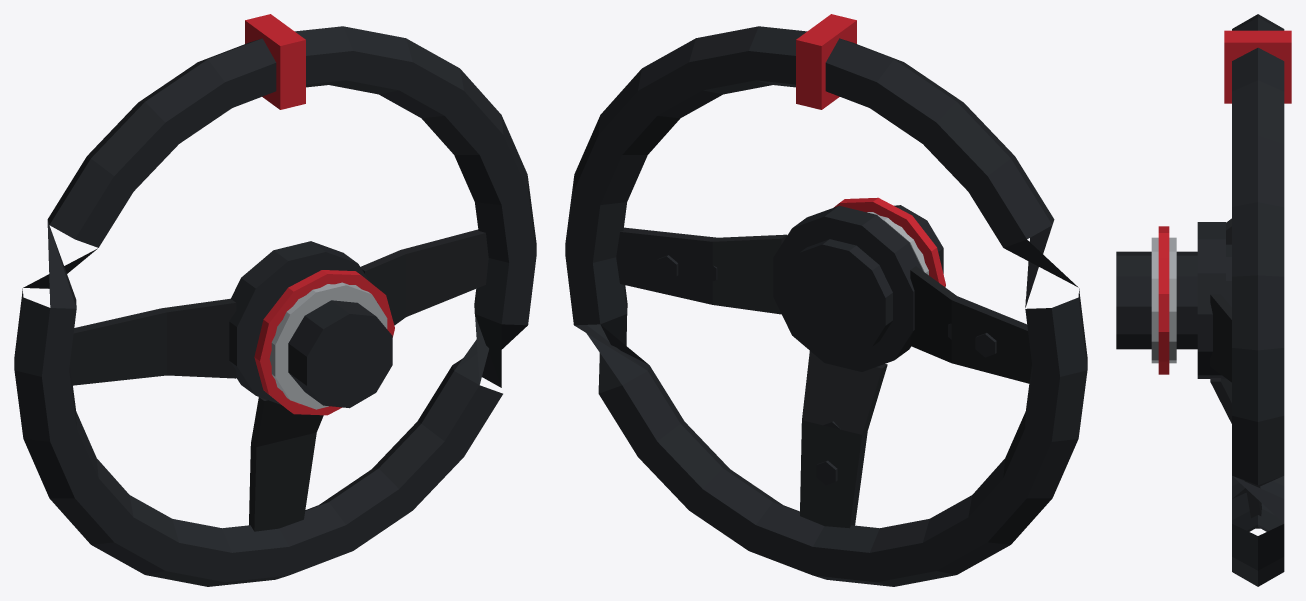
The model's file is hana_roadster.glb.
3 views of the same model, side by side, from view 1: azimuth 30°, elevation 25°; view 2: azimuth 150°, elevation 25°; view 3: azimuth 270°, elevation 25° (orthographic). The views are drawn at different scales.
Visible parts, largest first — view 1: model; view 2: model; view 3: model.
Boxes of the visible parts, box(x1,y1,x2,y2) form: model: box(14, 14, 536, 586); model: box(565, 14, 1087, 586); model: box(1116, 14, 1291, 586).
Bounding box in the file's own units: 0.3244 × 0.3264 × 0.099.
3 materials, 1 textured.
